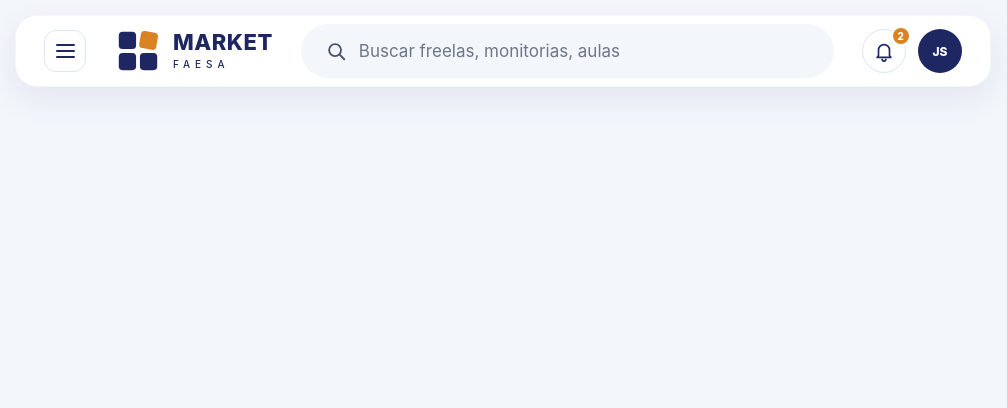
Test: sino de notificações › marca como lida e navega para conexões ao clicar numa notificação de conexão
The image size is (1007, 408).
Click the button named "Notificações".
click(884, 51)  # box [862,29,906,73]
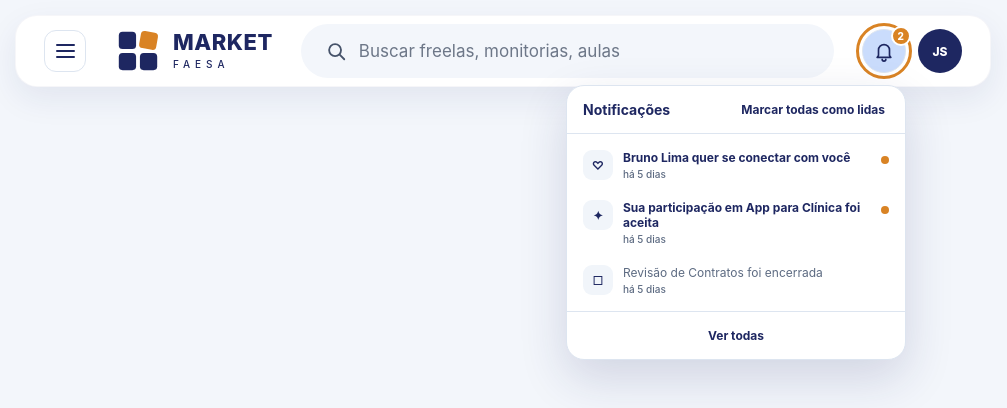
Click the button "♡ Bruno Lima quer se conectar com você há 5 dias".
click(736, 165)  # box [573,140,899,190]
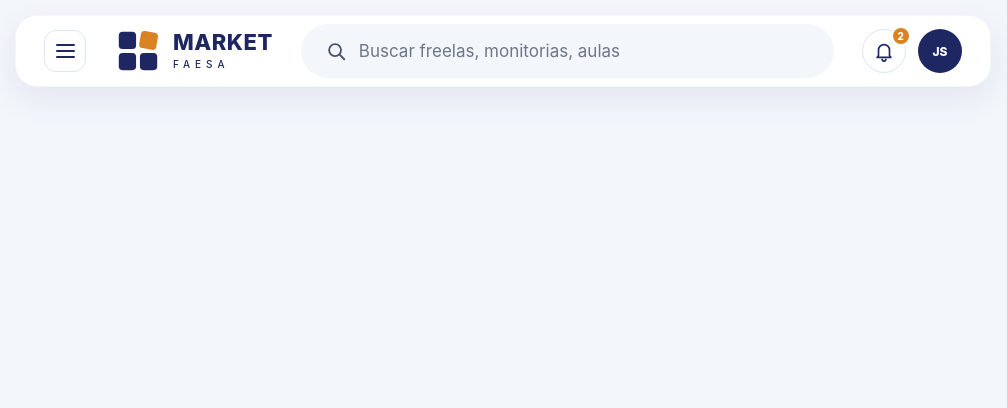
Expected: the heading "Notificações" is gone
